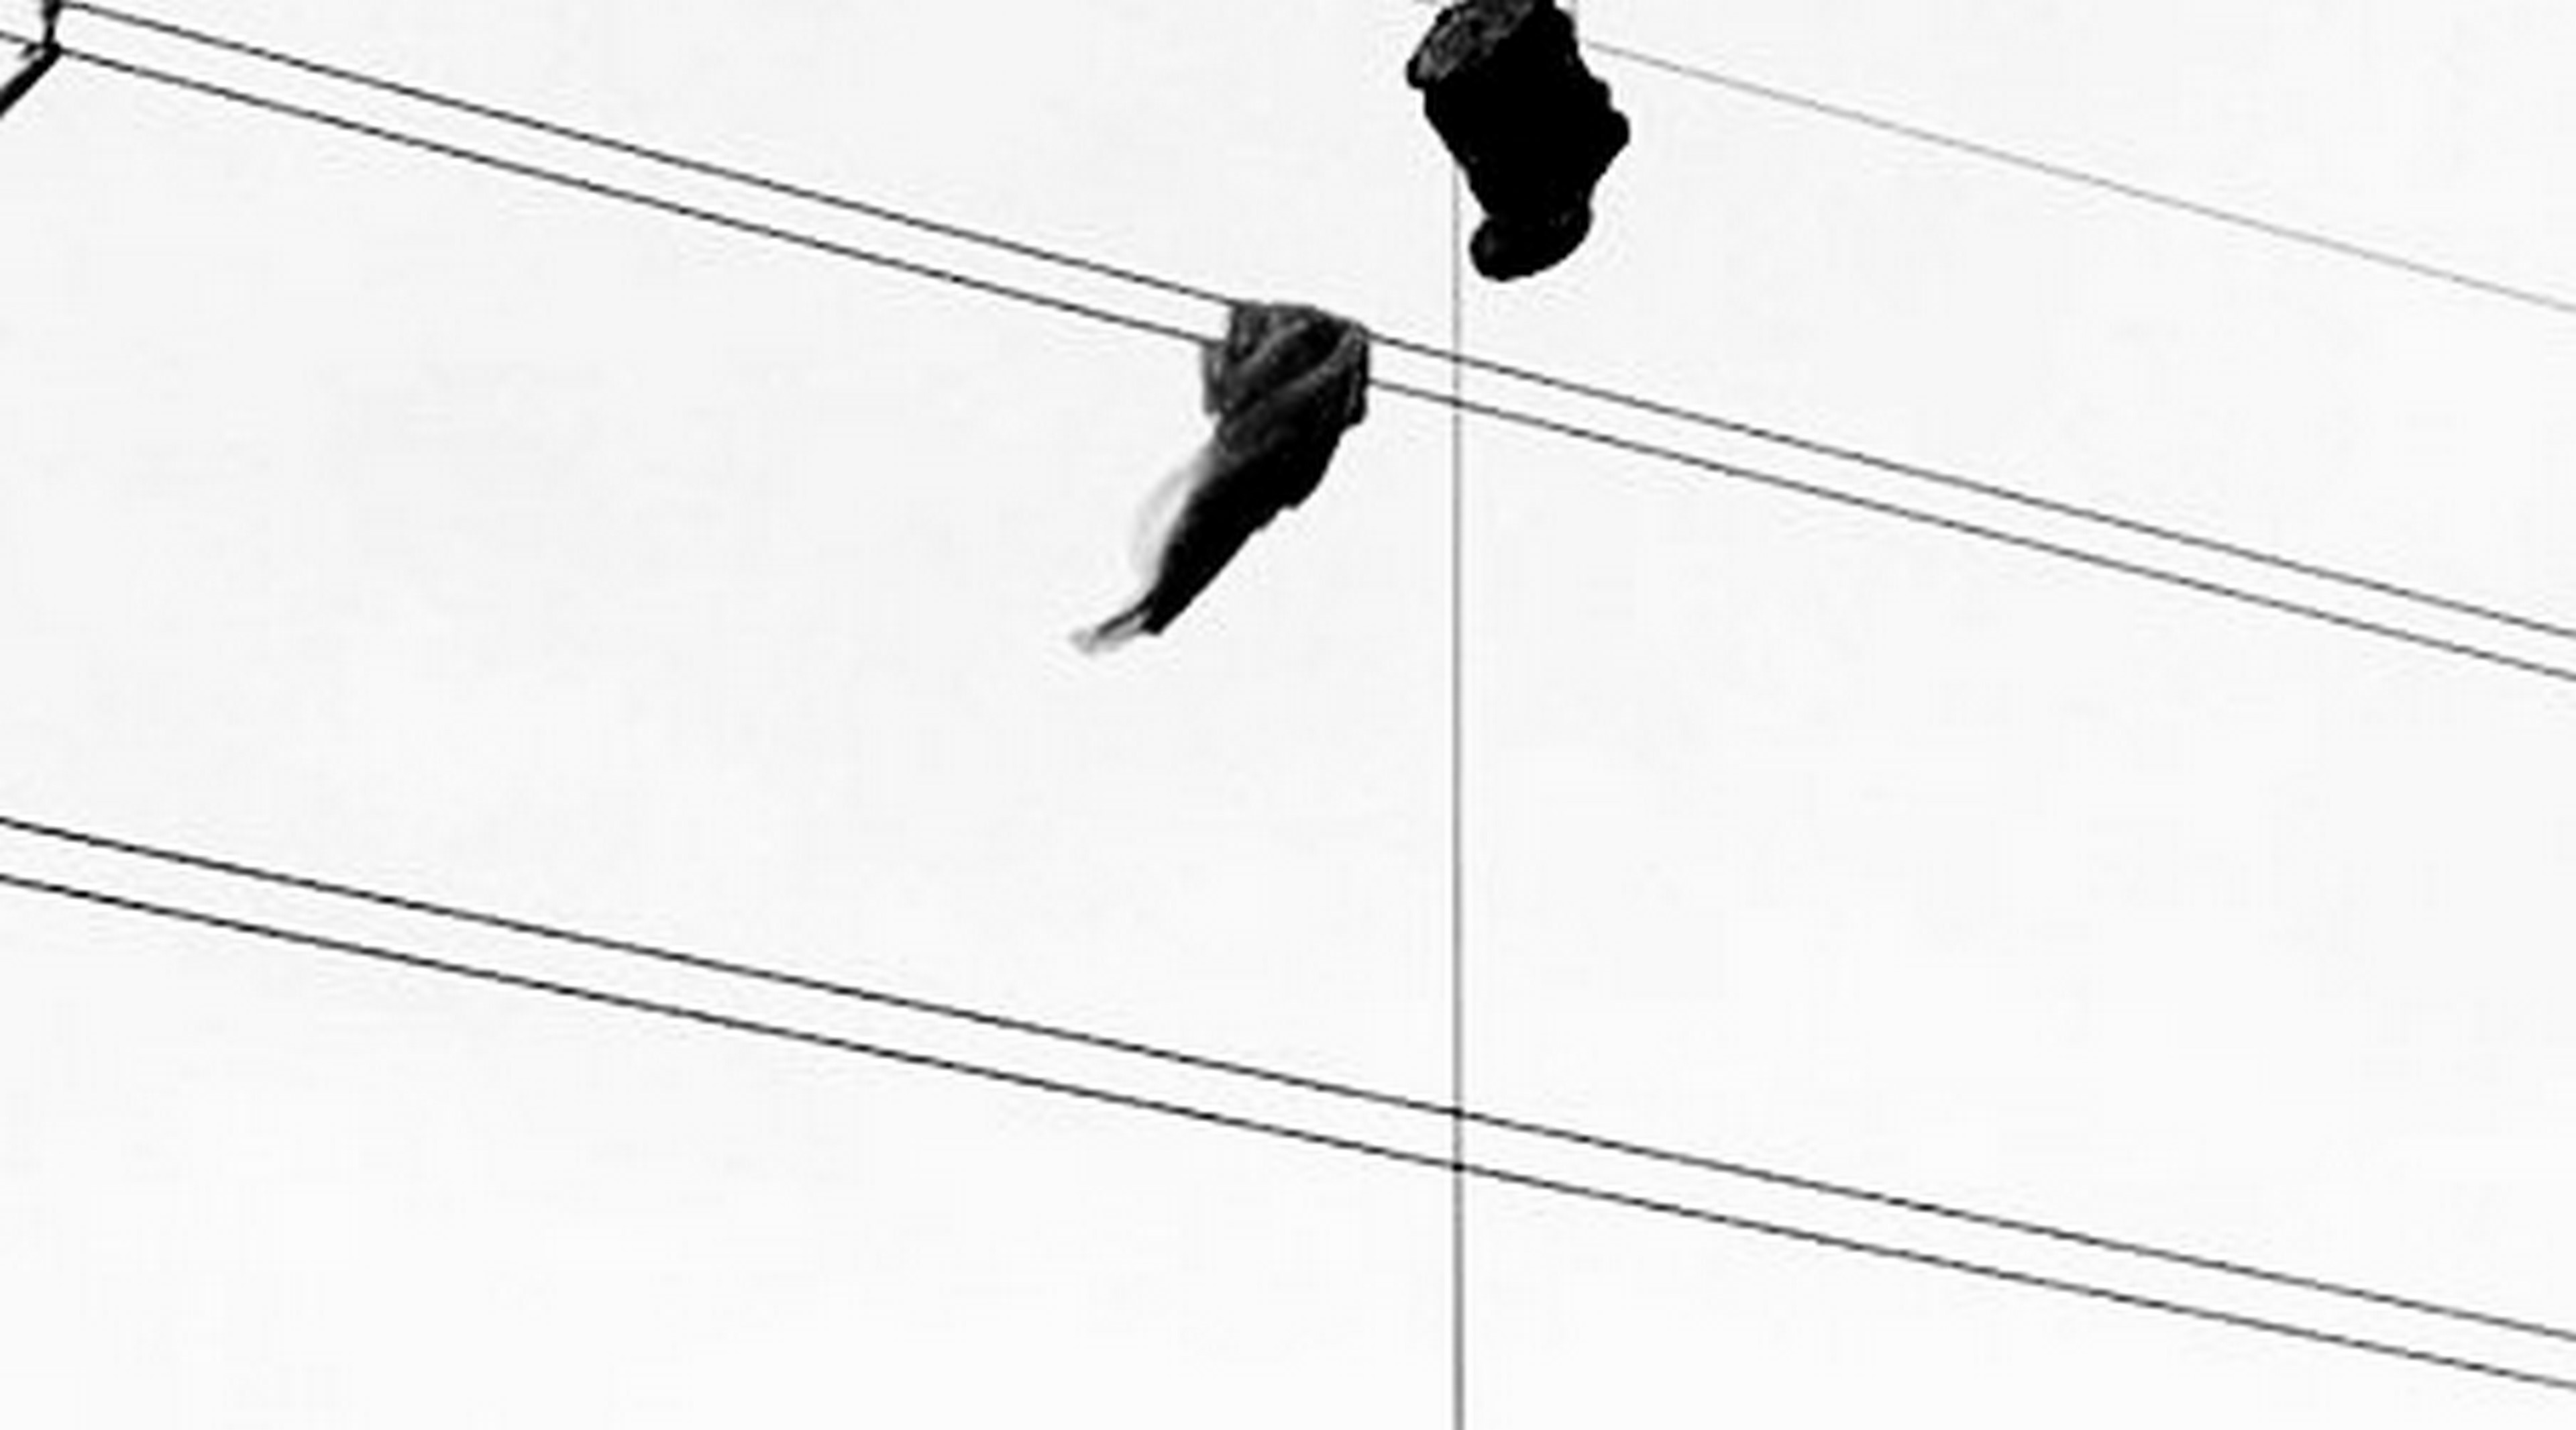wire foreign body: (1065, 262, 1432, 660)
